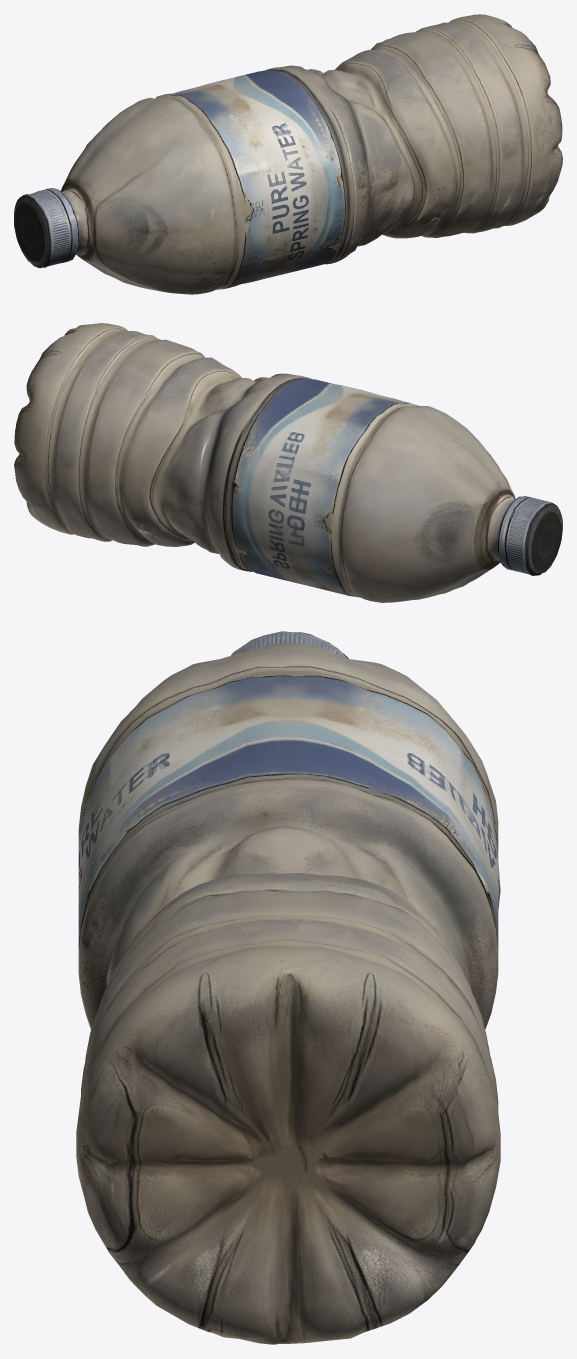
File: Meshy_AI_Crushed_Pure_Spring_W_0313125914_texture.fbx
3 views of the same model, one above another, from view 1: azimuth 30°, elevation 25°; view 2: azimuth 150°, elevation 25°; view 3: azimuth 270°, elevation 25° (orthographic). The views are drawn at different scales.
Parts seen in each view (by area): view 1: Mesh_0; view 2: Mesh_0; view 3: Mesh_0.
Boxes of the visible parts, bbox=[...] form: Mesh_0: bbox=[14, 14, 562, 294]; Mesh_0: bbox=[14, 323, 562, 602]; Mesh_0: bbox=[76, 631, 500, 1344].
Size of the model in its own units: 191 by 70.84 by 70.84.
Materials: 1 (1 with a texture image).
